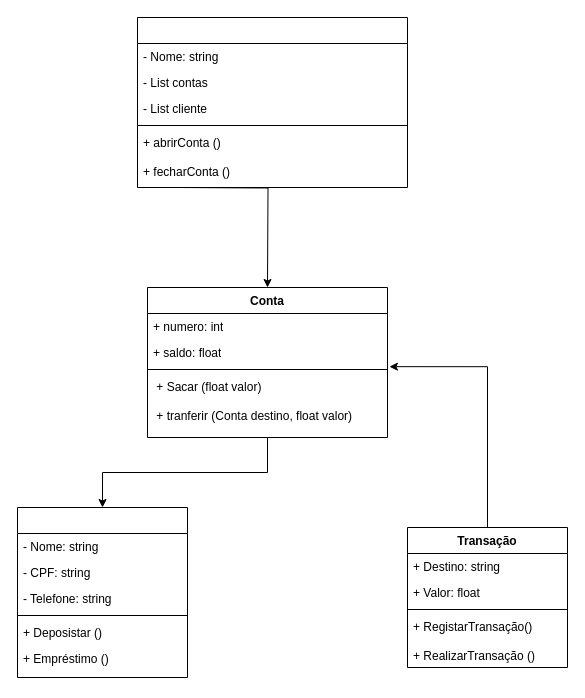
The diagram is 585 pixels wide and 698 high, and some of its shapes have lost their labels. The shapes that lost their labels are listed below. From the top down, each one's box as (x1, y1, x2, y2) in pixels, then its label:
(136, 16, 408, 188): Sistema Bancário
(16, 506, 188, 678): Cliente
